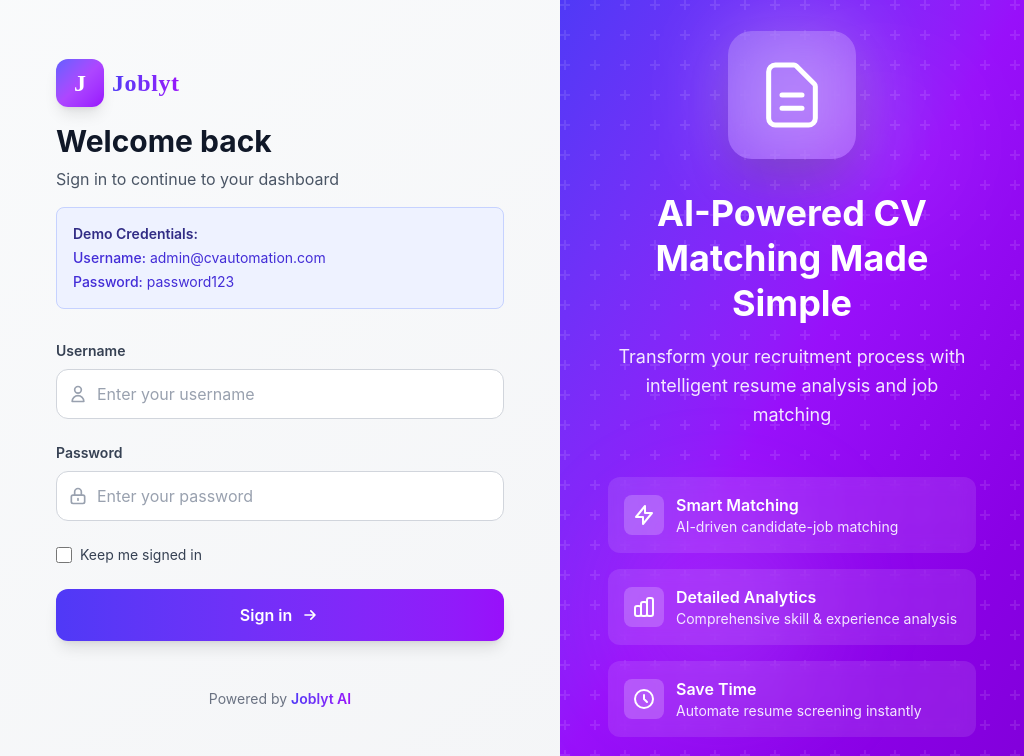
it: LoginPage › should show error on failed login
This screenshot has width=1024, height=756.
# Fill in the form
In the field labelled "Username": (280, 394) [56, 369, 504, 419], type "testuser"
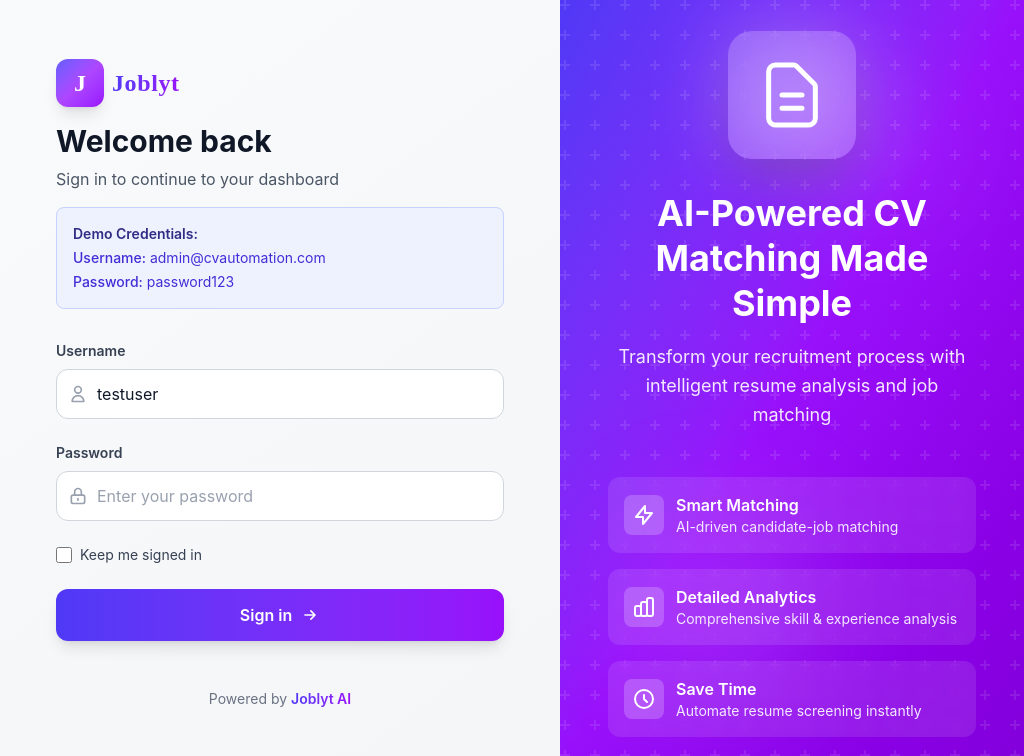
In the password field labelled "Password": (280, 496) [56, 471, 504, 521], type "wrongpassword"
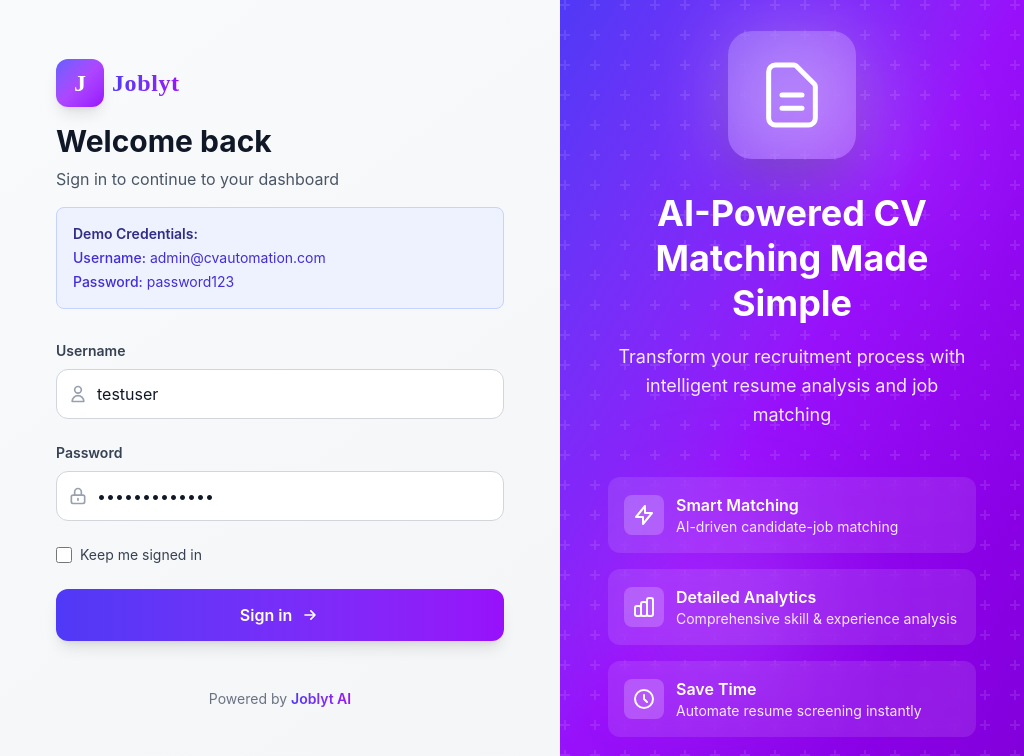
# Submit the form
Click the button "Sign in": (280, 615) [56, 589, 504, 641]
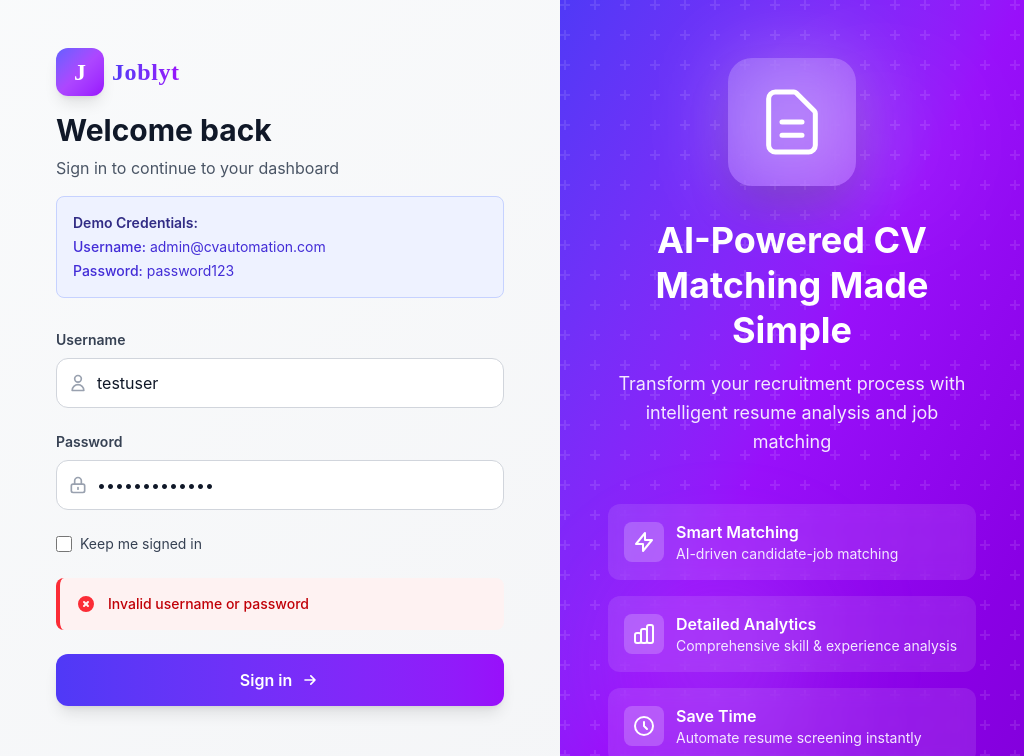
Expected: the text "Invalid username or password" is shown, [108, 594, 309, 614]
